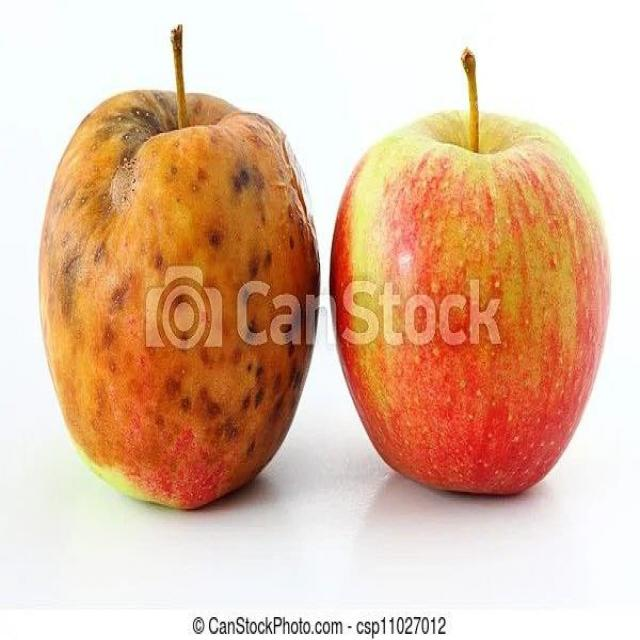fresh_apple: (329, 111, 612, 495)
rotten_apple: (37, 94, 320, 511)
